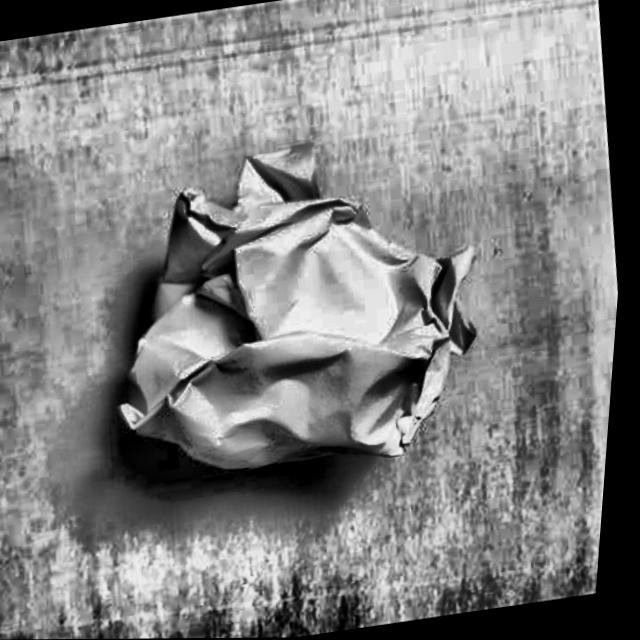Paper: (76, 94, 528, 501)
